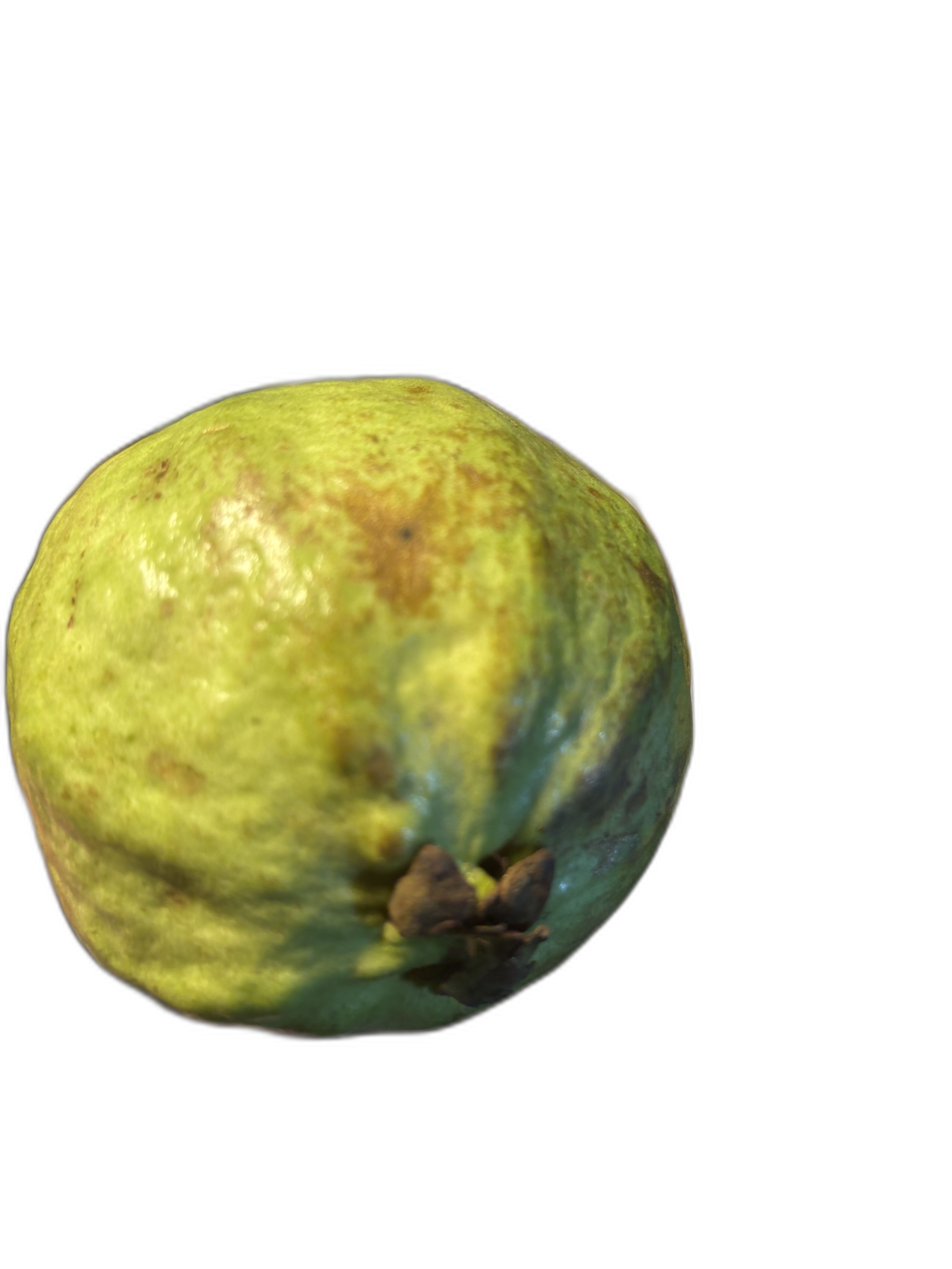guava: (73, 292, 892, 1102)
